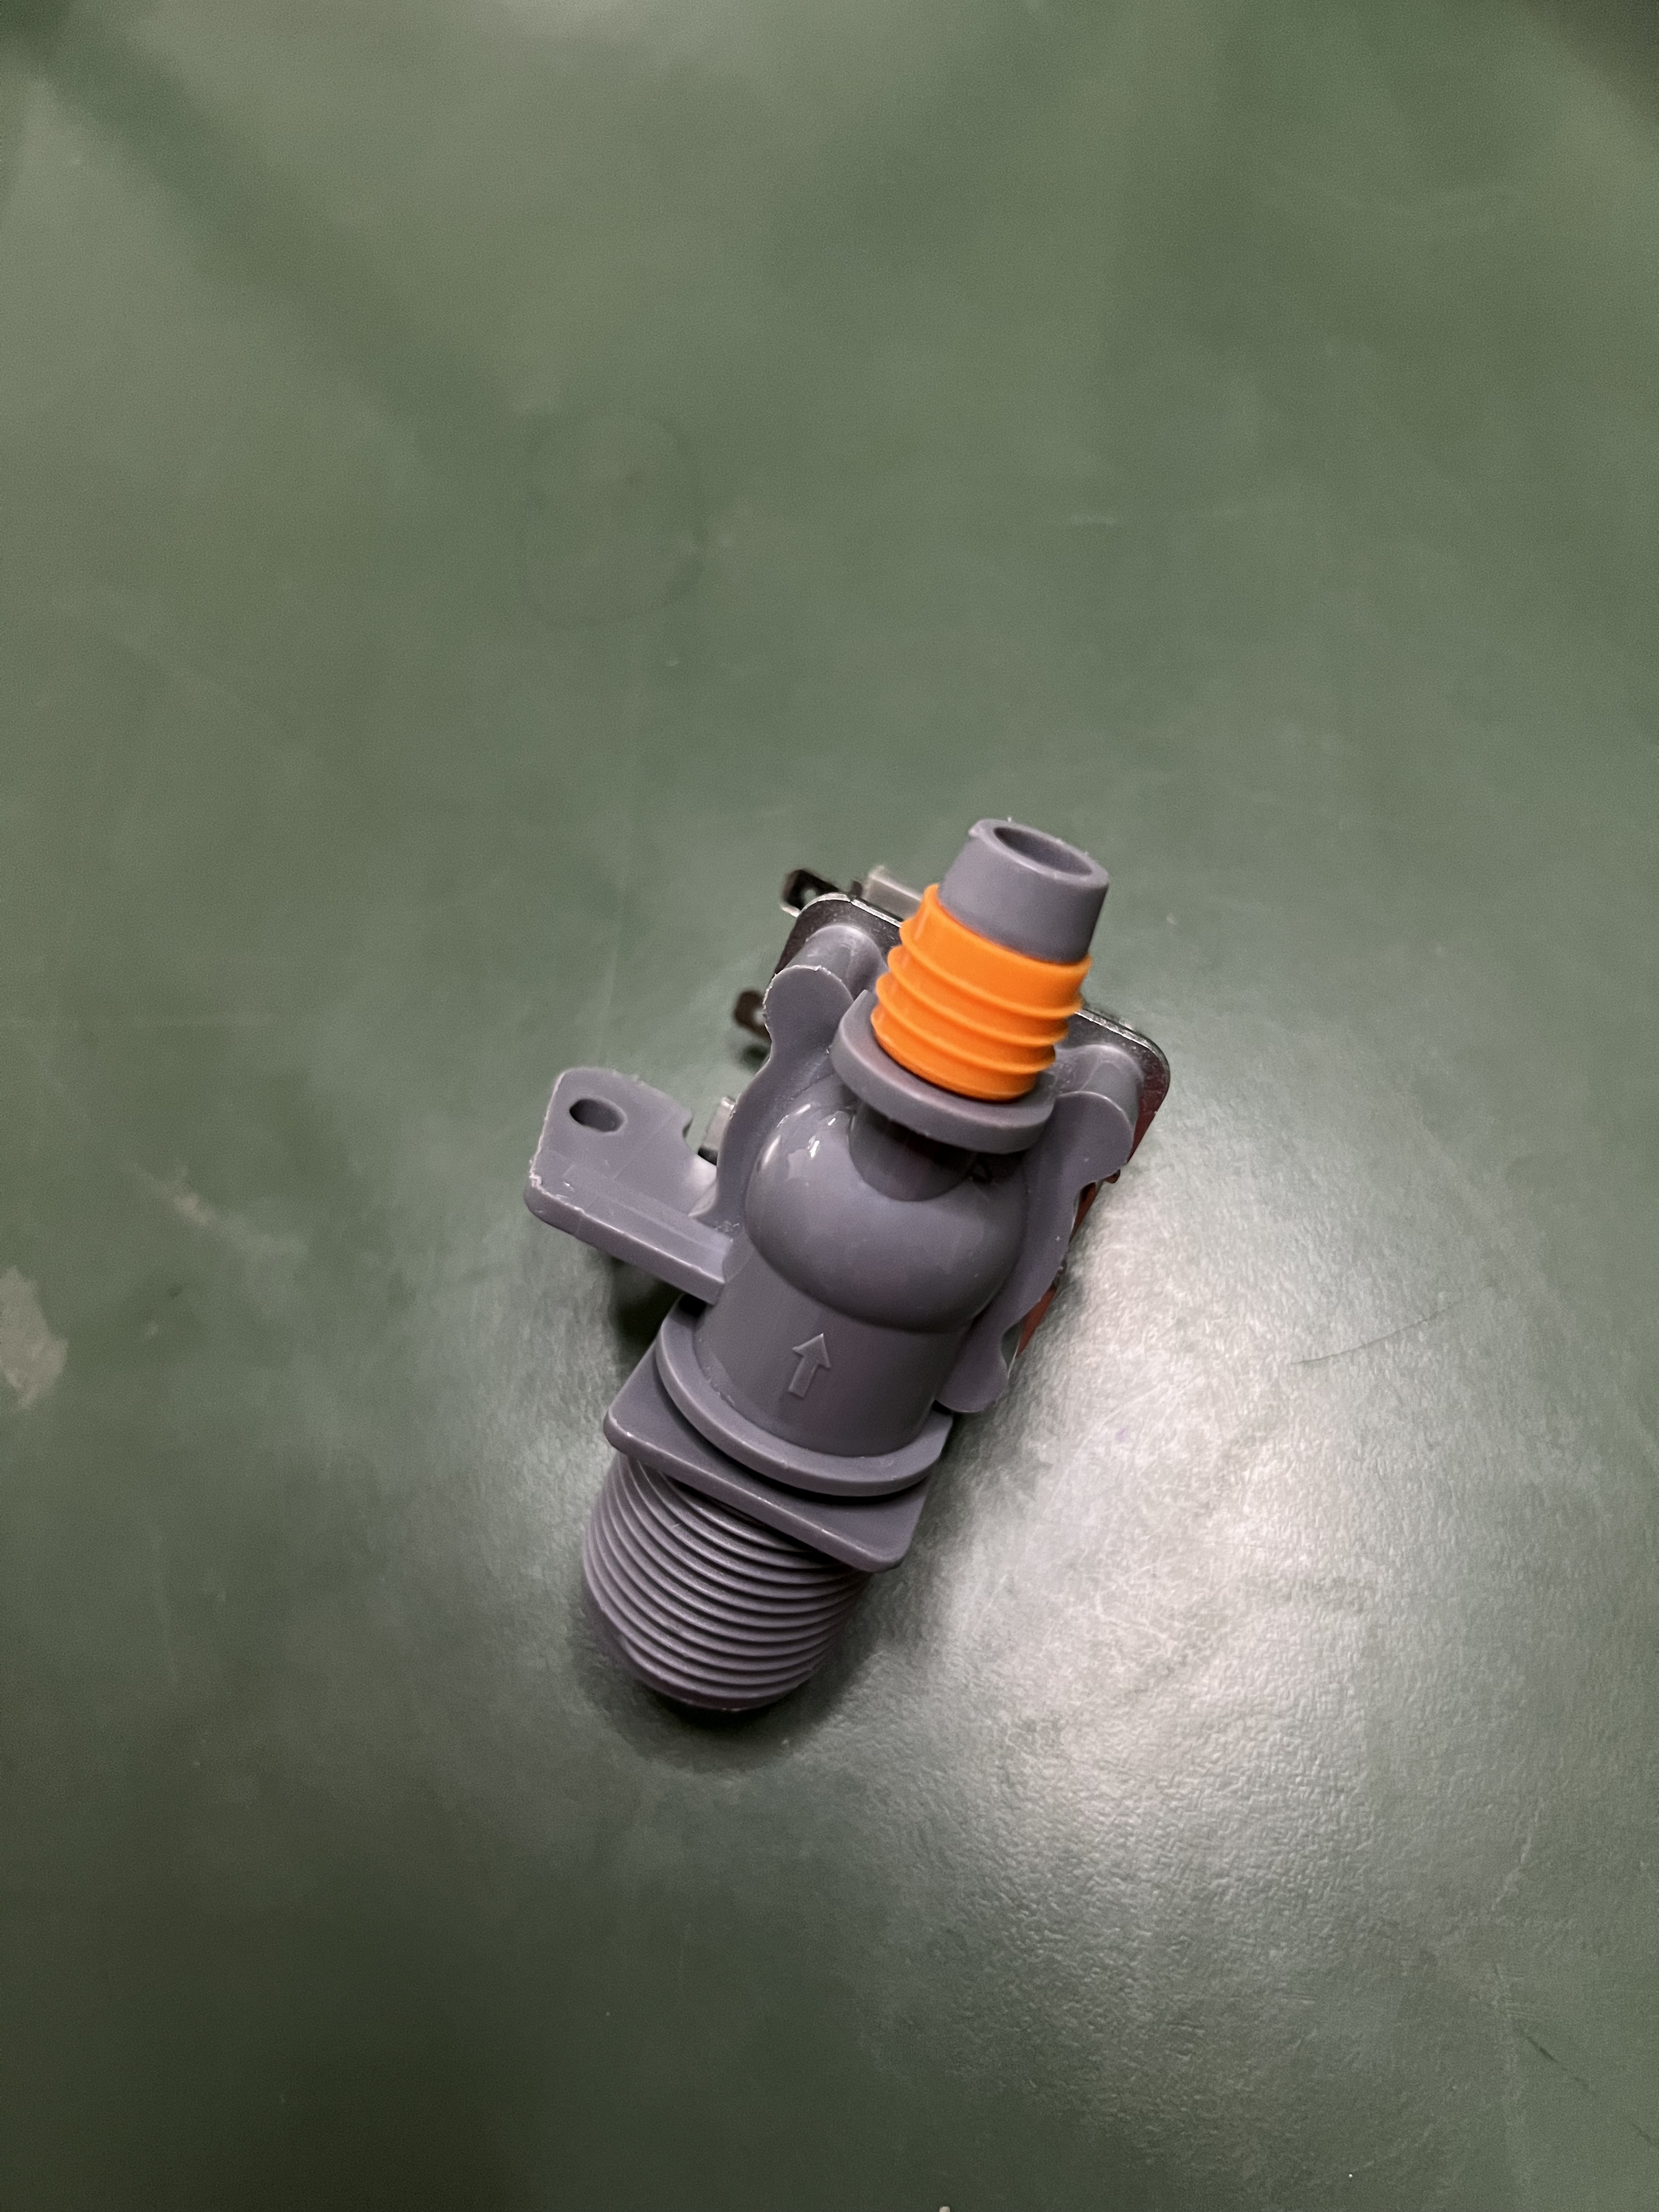inlet_valves: (446, 773, 1218, 1733)
